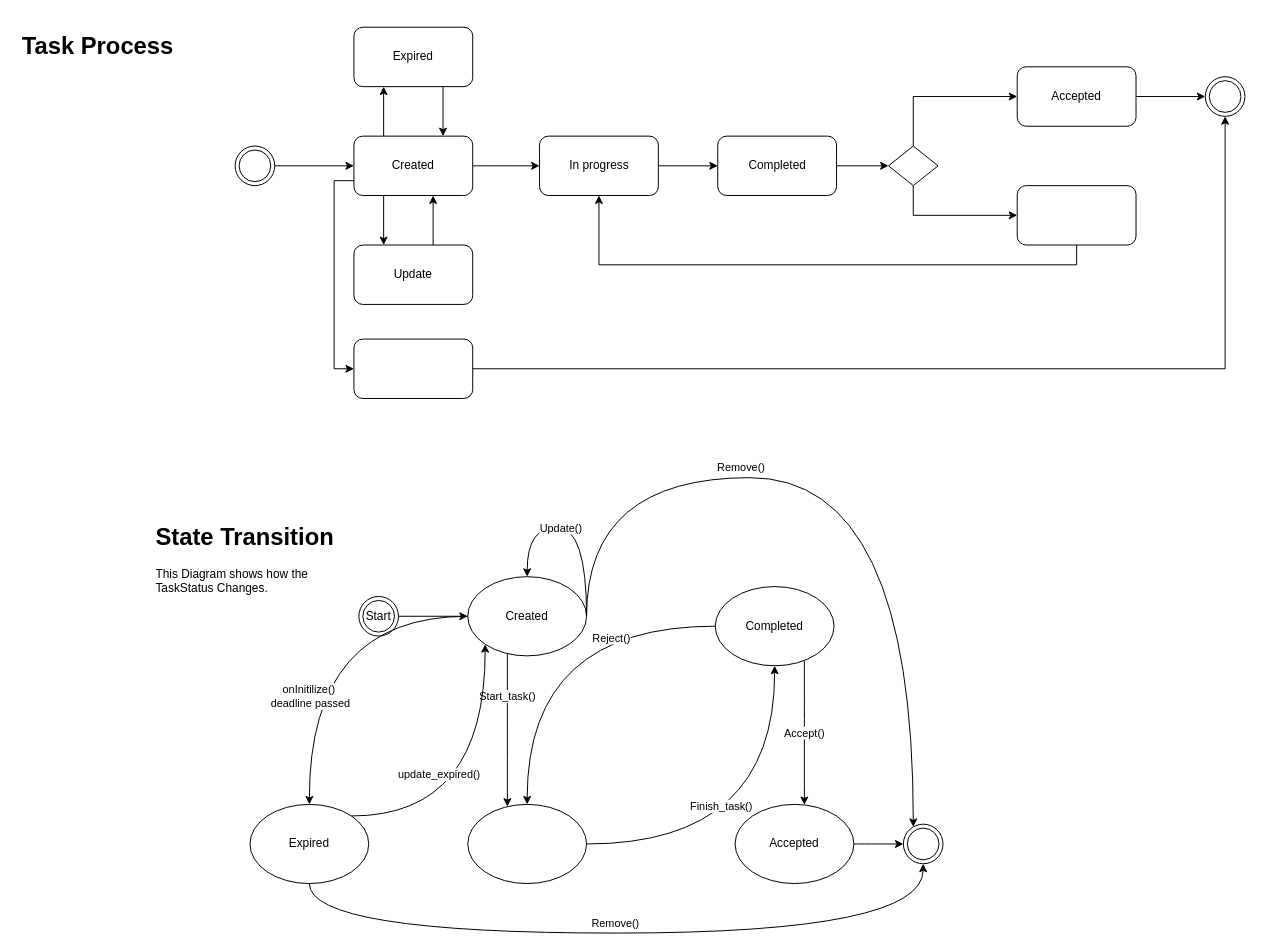
The diagram is 1262 pixels wide and 950 high, and some of its shapes have lost their labels. Each missing label, with the box of its shape:
Delete: (353, 338, 473, 398)
End: (902, 823, 943, 864)
InProgress: (467, 803, 587, 884)
Rejected: (1016, 185, 1136, 245)
